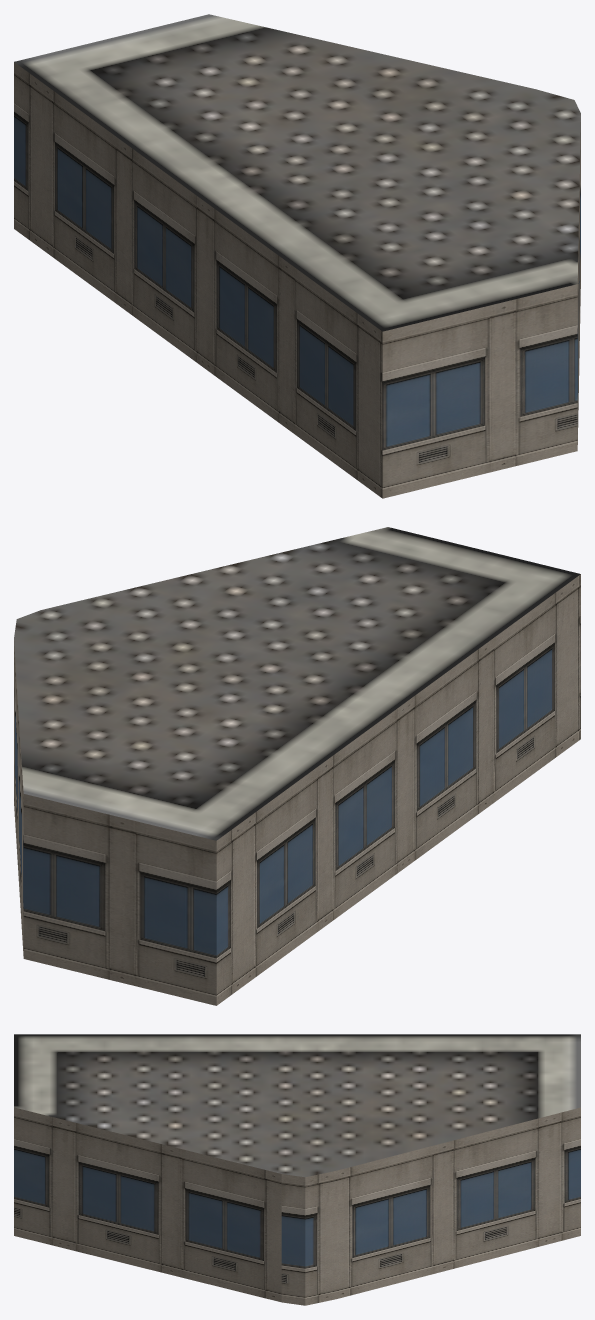
Rendered from building_light_a_06.glb.
3 renders of one model, top to bottom at view 1: azimuth 30°, elevation 25°; view 2: azimuth 150°, elevation 25°; view 3: azimuth 270°, elevation 25°, orthographic. The views are drawn at different scales.
Visible parts, largest first — view 1: buildings/saxarba/building_light/building_light_a_06; view 2: buildings/saxarba/building_light/building_light_a_06; view 3: buildings/saxarba/building_light/building_light_a_06.
Part boxes in pixels (x1,y1,x2,y2): buildings/saxarba/building_light/building_light_a_06: [14, 14, 580, 498]; buildings/saxarba/building_light/building_light_a_06: [14, 527, 580, 1005]; buildings/saxarba/building_light/building_light_a_06: [14, 1034, 580, 1305].
Size of the model in its own units: 43 by 18 by 72.
